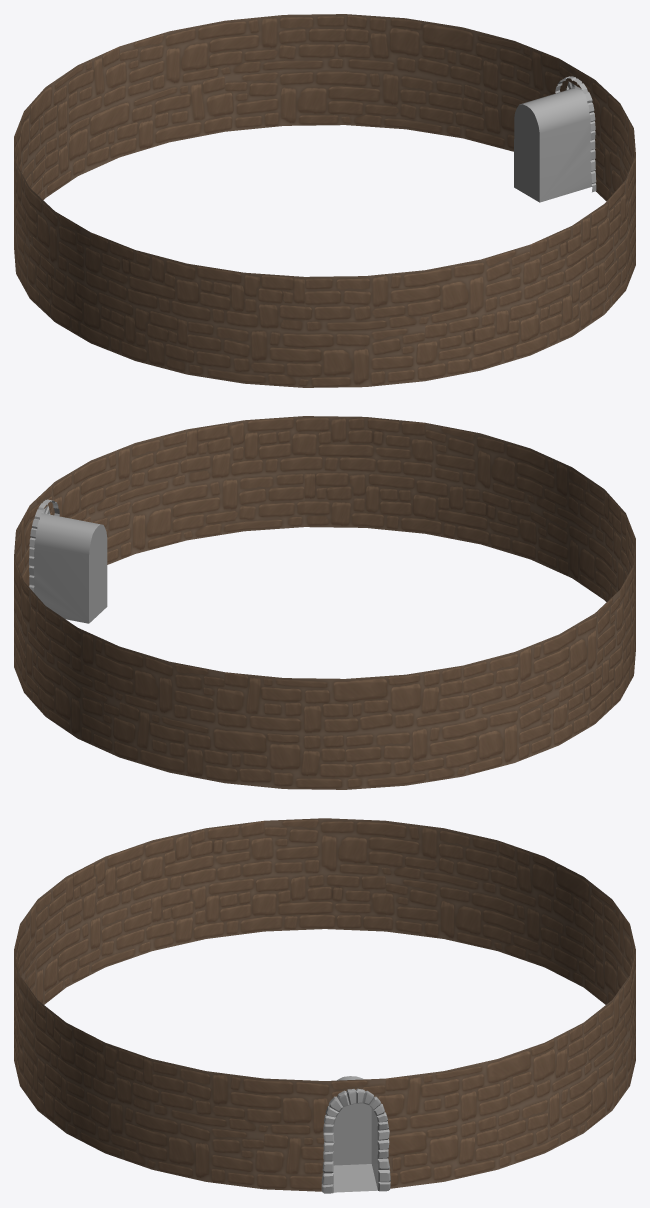
Rendered from SM_O_Doorway.fbx.
The picture shows the model from 3 angles, top to bottom: view 1: azimuth 30°, elevation 25°; view 2: azimuth 150°, elevation 25°; view 3: azimuth 270°, elevation 25°; orthographic projection.
Visible parts, largest first — view 1: polySurface63, pCylinder13; view 2: polySurface63, pCylinder13; view 3: polySurface63, pCylinder13.
Boxes of the visible parts, <box> form: polySurface63: <box>14,14,635,387</box>; pCylinder13: <box>514,76,596,202</box>; polySurface63: <box>14,416,635,789</box>; pCylinder13: <box>29,499,107,623</box>; polySurface63: <box>14,818,635,1191</box>; pCylinder13: <box>321,1076,390,1193</box>.
Bounding box in the file's own units: 658 × 128 × 651.
